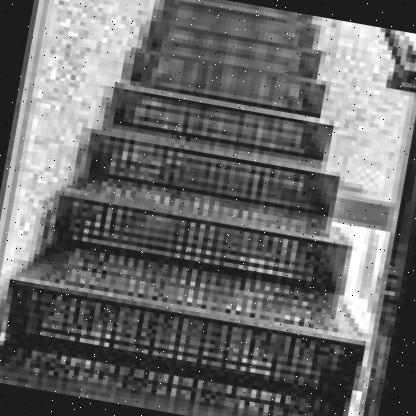stair: (0, 79, 389, 416)
